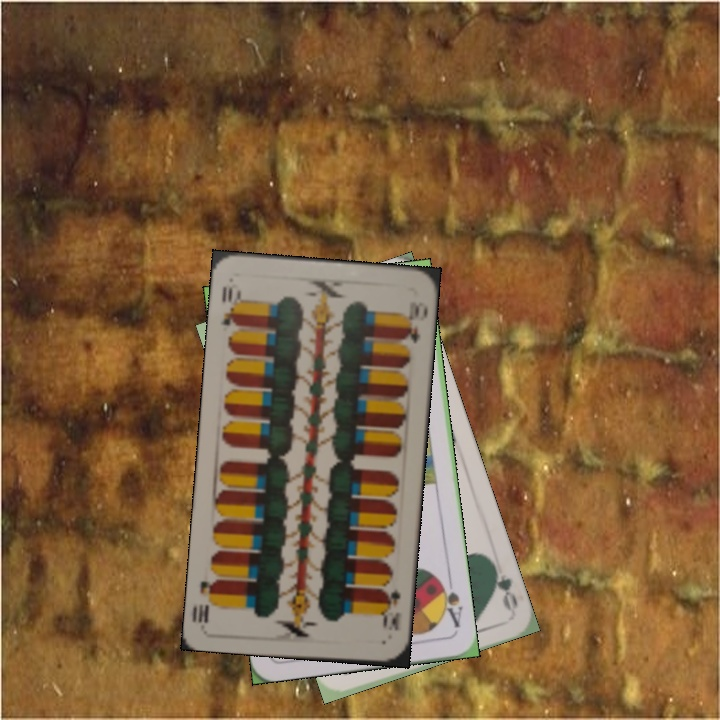E10: (377, 580, 405, 633), (216, 282, 244, 329)
GO: (486, 557, 521, 614)
SA: (434, 573, 465, 631)
